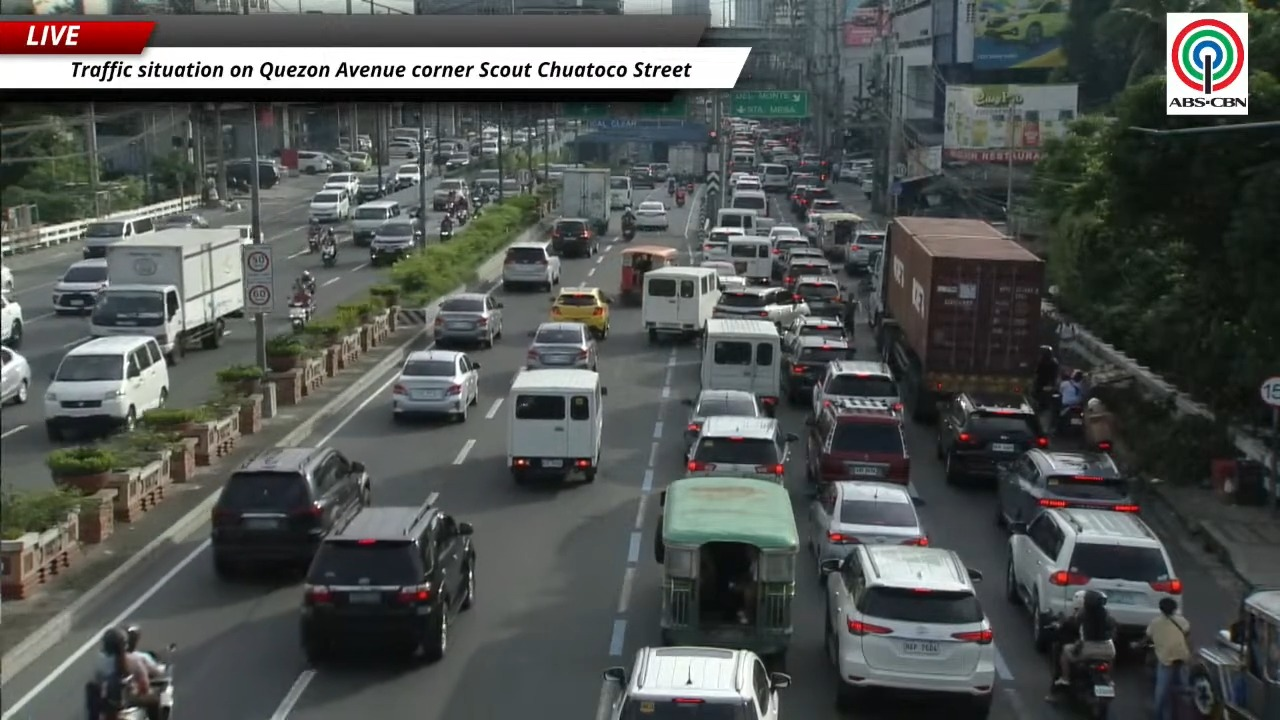car: (822, 544, 995, 717), (300, 493, 475, 663), (1005, 508, 1182, 648), (210, 447, 370, 578), (604, 646, 790, 719), (996, 448, 1138, 522), (808, 481, 928, 564), (938, 392, 1048, 482), (806, 398, 910, 485), (686, 416, 798, 482), (392, 349, 479, 421), (812, 360, 901, 416), (781, 336, 854, 404), (683, 389, 764, 447), (981, 0, 1067, 45), (433, 292, 503, 347), (712, 286, 807, 326), (525, 321, 598, 370), (550, 286, 611, 339), (52, 258, 108, 315), (502, 241, 560, 292), (793, 275, 852, 323), (369, 217, 423, 266), (771, 237, 823, 280), (782, 316, 850, 344), (782, 253, 834, 289), (552, 217, 598, 257), (0, 347, 31, 404), (803, 201, 844, 243), (845, 230, 885, 271), (308, 189, 352, 222), (698, 260, 744, 291), (701, 227, 745, 259), (776, 240, 824, 268), (0, 294, 23, 348), (432, 178, 469, 211), (357, 175, 396, 203), (799, 185, 836, 213), (634, 201, 668, 229), (155, 213, 210, 230), (297, 150, 333, 174), (323, 172, 358, 196), (789, 184, 813, 217), (788, 172, 820, 194), (388, 138, 420, 158), (394, 163, 419, 188), (326, 148, 352, 171), (628, 166, 655, 188), (732, 175, 762, 194), (769, 225, 803, 241), (346, 152, 371, 171), (445, 153, 470, 170), (0, 265, 14, 294), (649, 163, 669, 181), (861, 177, 874, 197)
motorcycle: (1051, 659, 1115, 719), (1053, 660, 1115, 719), (146, 644, 176, 719), (148, 644, 176, 719), (1054, 393, 1083, 438), (288, 301, 311, 331), (321, 245, 338, 268), (439, 223, 453, 242), (307, 233, 320, 253), (303, 278, 316, 297), (622, 226, 635, 241), (675, 190, 685, 206), (667, 183, 676, 195), (686, 182, 694, 193)
truck: (868, 217, 1045, 421), (89, 227, 244, 364), (558, 168, 610, 234), (668, 144, 705, 182)
